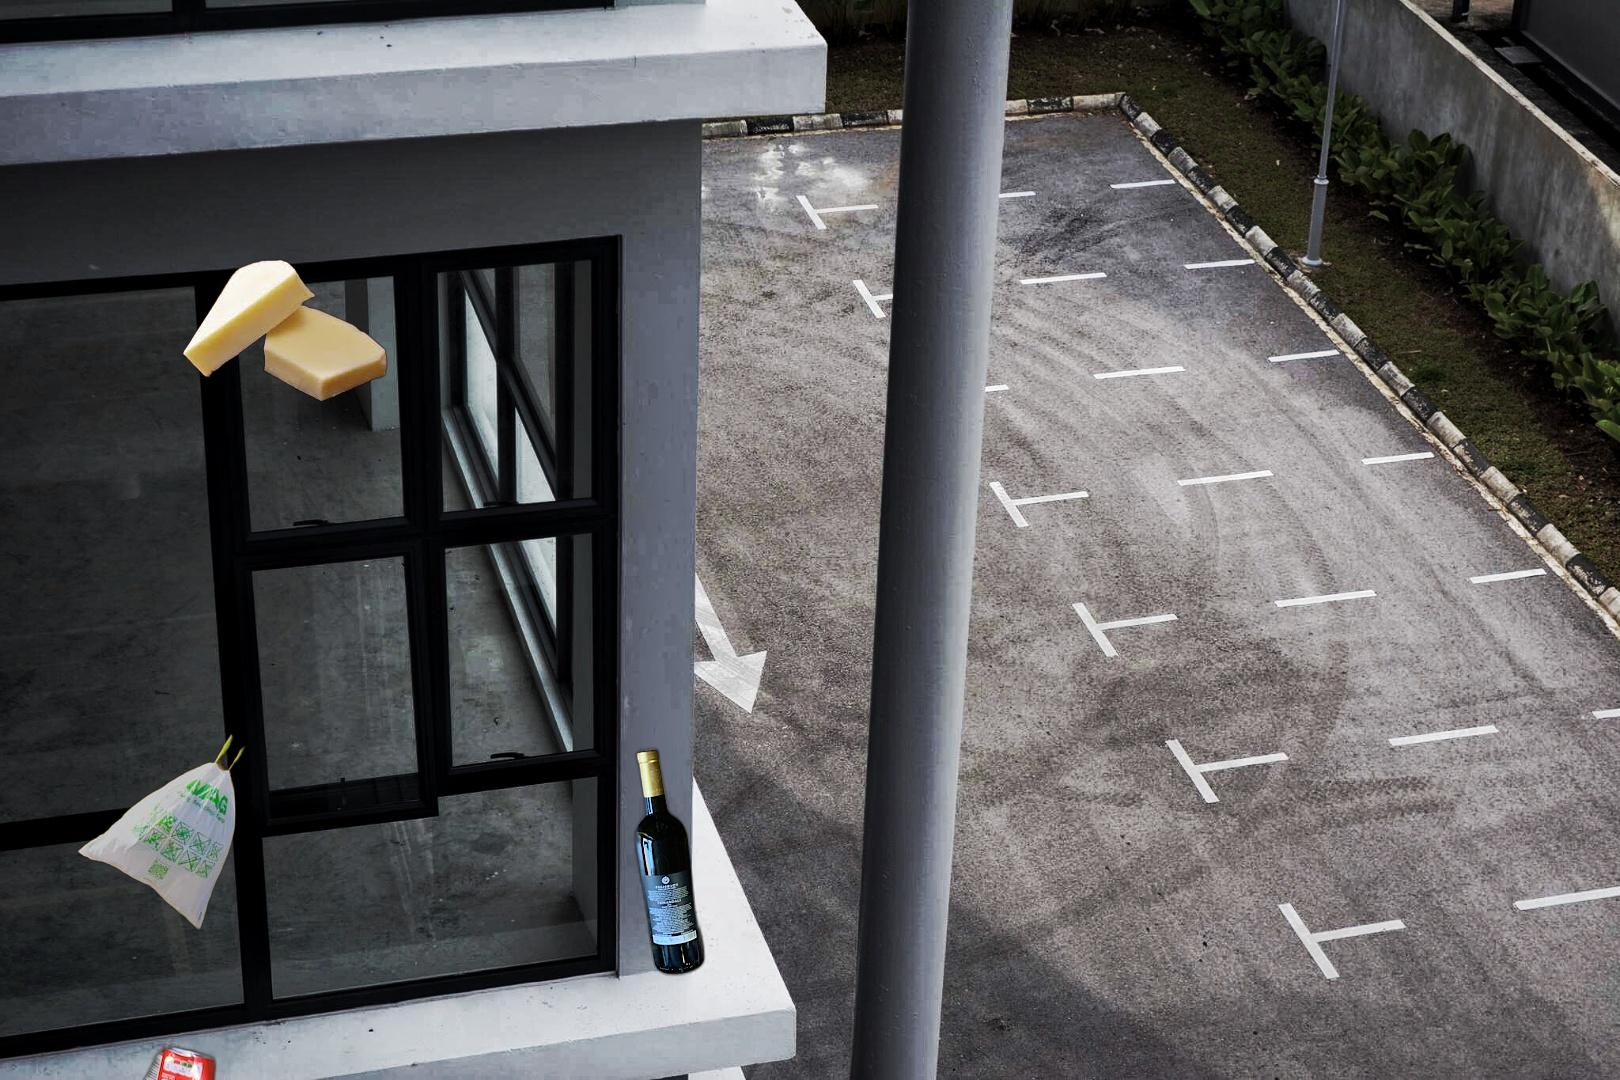biological: (180, 257, 391, 405)
glass: (630, 742, 709, 982)
metal-cans: (123, 1040, 221, 1080)
plastic-bag: (74, 730, 251, 933)
